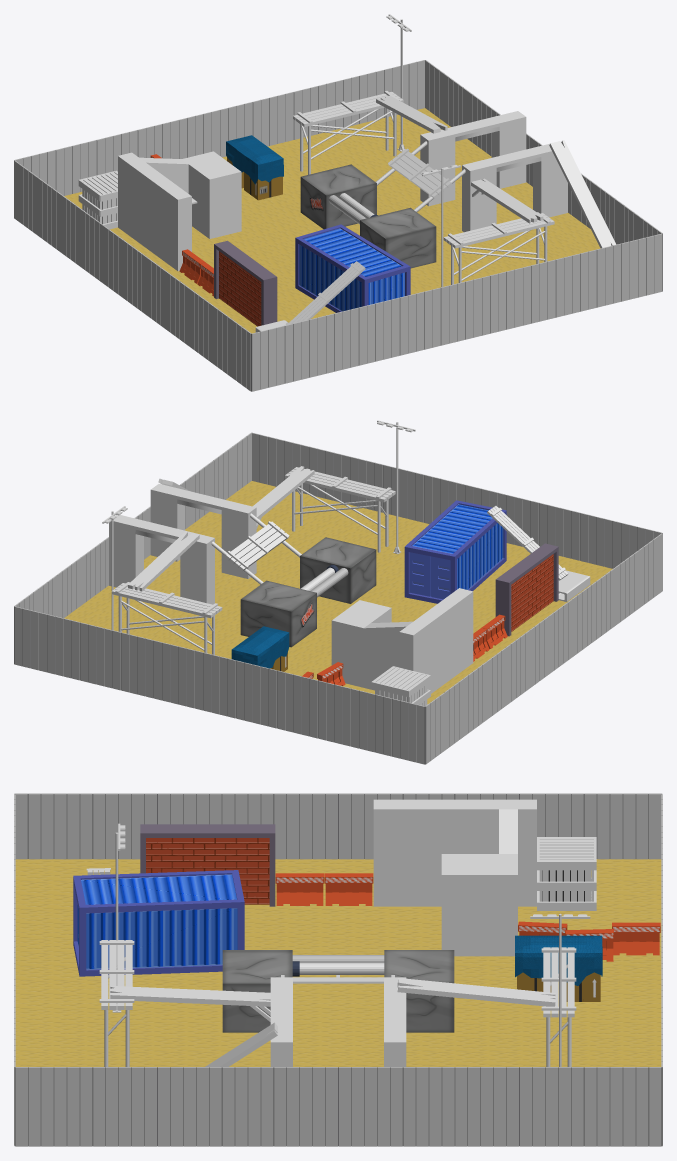
The model's file is Chase Tag Map test texture3.fbx.
The picture shows the model from 3 angles, top to bottom: view 1: azimuth 30°, elevation 25°; view 2: azimuth 150°, elevation 25°; view 3: azimuth 270°, elevation 25°; orthographic projection. The views are drawn at different scales.
Visible parts, largest first — view 1: Cube.021, Ground, Tic-Tac Wall, Pilar, Container.001, Wall.001, Tembok dan Pipa.002, Tembok dan Pipa.001, Papan Kayu5, Terpal, Perancah, Perancah.001 (+6 smaller); view 2: Cube.021, Ground, Tic-Tac Wall, Pilar, Container.001, Wall.001, Tembok dan Pipa.002, Tembok dan Pipa.001, Terpal, Cube.010, Perancah.001, Perancah (+8 smaller); view 3: Cube.021, Ground, Tic-Tac Wall, Container.001, Wall.001, Tembok dan Pipa.002, Pilar, Tembok dan Pipa.001, Terpal, Papan Kayu3, Papan Kayu4, Perancah.001 (+16 smaller).
Boxes of the visible parts, bbox=[...] form: Cube.021: bbox=[14, 60, 662, 391]; Ground: bbox=[64, 108, 600, 333]; Tic-Tac Wall: bbox=[118, 151, 241, 271]; Pilar: bbox=[420, 111, 567, 232]; Container.001: bbox=[295, 224, 410, 312]; Wall.001: bbox=[214, 240, 277, 326]; Tembok dan Pipa.002: bbox=[300, 164, 376, 229]; Tembok dan Pipa.001: bbox=[360, 207, 436, 268]; Papan Kayu5: bbox=[549, 140, 616, 248]; Terpal: bbox=[226, 135, 283, 184]; Perancah: bbox=[443, 212, 554, 248]; Perancah.001: bbox=[293, 91, 403, 126]; Cube.021: bbox=[14, 432, 662, 764]; Ground: bbox=[64, 481, 612, 704]; Tic-Tac Wall: bbox=[331, 588, 473, 693]; Pilar: bbox=[109, 484, 256, 604]; Container.001: bbox=[404, 500, 506, 603]; Wall.001: bbox=[495, 543, 558, 636]; Tembok dan Pipa.002: bbox=[240, 580, 316, 647]; Tembok dan Pipa.001: bbox=[300, 537, 376, 603]; Terpal: bbox=[231, 626, 289, 668]; Cube.010: bbox=[410, 552, 450, 599]; Perancah.001: bbox=[111, 582, 222, 618]; Perancah: bbox=[285, 466, 395, 502]; Cube.021: bbox=[14, 793, 662, 1146]; Ground: bbox=[15, 859, 661, 1067]; Tic-Tac Wall: bbox=[373, 799, 536, 956]; Container.001: bbox=[73, 870, 244, 976]; Wall.001: bbox=[140, 824, 275, 906]; Tembok dan Pipa.002: bbox=[384, 950, 454, 1032]; Pilar: bbox=[270, 977, 406, 1067]; Tembok dan Pipa.001: bbox=[222, 950, 292, 1032]; Terpal: bbox=[515, 935, 602, 985]; Papan Kayu3: bbox=[397, 978, 555, 1006]; Papan Kayu4: bbox=[110, 986, 270, 1006]; Perancah.001: bbox=[541, 947, 576, 1017].
Size of the model in its own units: 24.12 by 24.12 by 7.84.
Materials: 20 (8 with a texture image).
